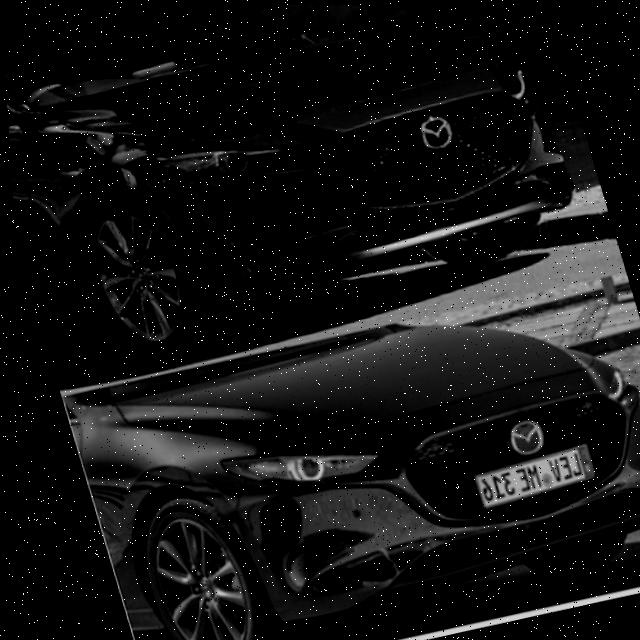license-plates: (477, 444, 594, 508)
